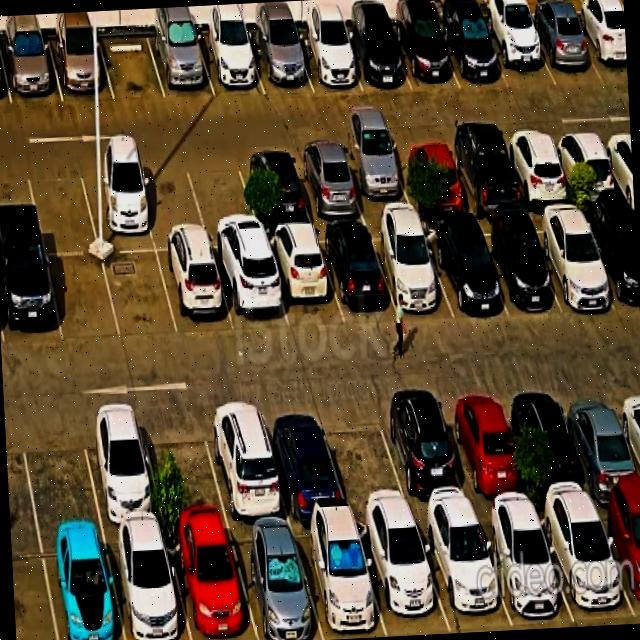empty: (318, 399, 412, 515), (139, 408, 229, 528), (18, 411, 102, 535), (185, 154, 262, 249), (135, 159, 210, 251), (25, 163, 99, 254), (103, 252, 178, 340), (47, 255, 120, 343), (98, 34, 165, 100)
occupied: (536, 503, 636, 627), (375, 394, 474, 516), (415, 513, 512, 632), (476, 510, 574, 627), (292, 520, 387, 640), (438, 390, 531, 511), (355, 519, 451, 636), (227, 525, 323, 640), (201, 400, 290, 524), (260, 403, 349, 520), (508, 386, 594, 507), (165, 527, 257, 640), (79, 409, 164, 529), (104, 529, 191, 640), (559, 385, 640, 502), (40, 532, 124, 640), (528, 211, 617, 310), (472, 220, 560, 315), (421, 223, 508, 319), (263, 230, 344, 331), (317, 227, 399, 324), (369, 226, 454, 319), (78, 161, 156, 253), (157, 250, 235, 336), (212, 248, 289, 332), (445, 139, 525, 216), (581, 210, 640, 313), (237, 151, 313, 230), (0, 252, 62, 346), (291, 149, 366, 224), (594, 498, 640, 620), (340, 146, 415, 220), (480, 17, 556, 90), (393, 143, 470, 215), (524, 17, 603, 86), (501, 134, 574, 208), (550, 131, 622, 203), (390, 19, 460, 91), (437, 19, 508, 89), (341, 25, 412, 91), (195, 33, 265, 97), (148, 33, 215, 99), (48, 36, 114, 102), (293, 30, 362, 92), (0, 39, 63, 105), (248, 32, 313, 94), (572, 13, 628, 82)
